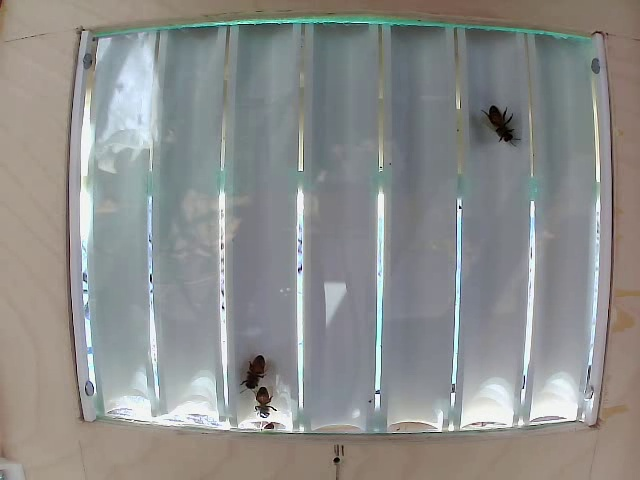bee: (472, 90, 510, 170), (238, 352, 282, 400)
